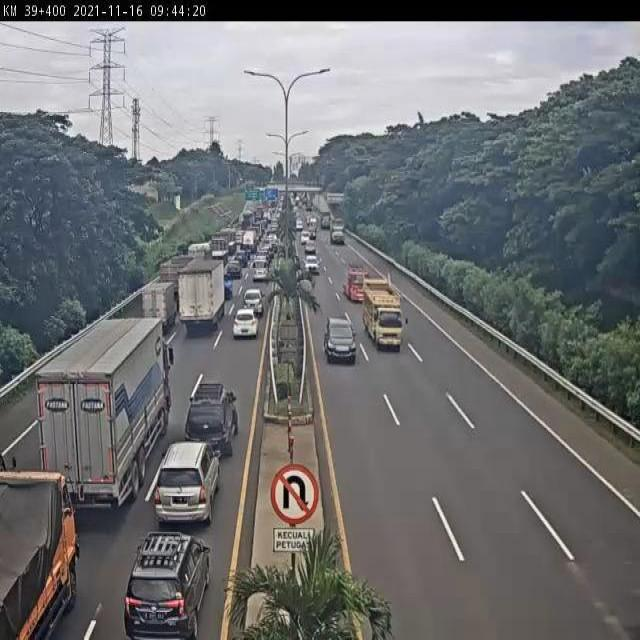car: (124, 531, 214, 636), (148, 440, 225, 532), (186, 379, 242, 452), (322, 316, 359, 369), (229, 304, 255, 351), (239, 287, 265, 319), (249, 253, 273, 280), (303, 253, 322, 275), (224, 259, 242, 281), (223, 278, 235, 306)
truck: (35, 309, 175, 507), (0, 461, 80, 640), (177, 262, 226, 334), (364, 279, 408, 357), (156, 252, 193, 301), (139, 286, 171, 334), (344, 264, 372, 303), (328, 223, 345, 247)
